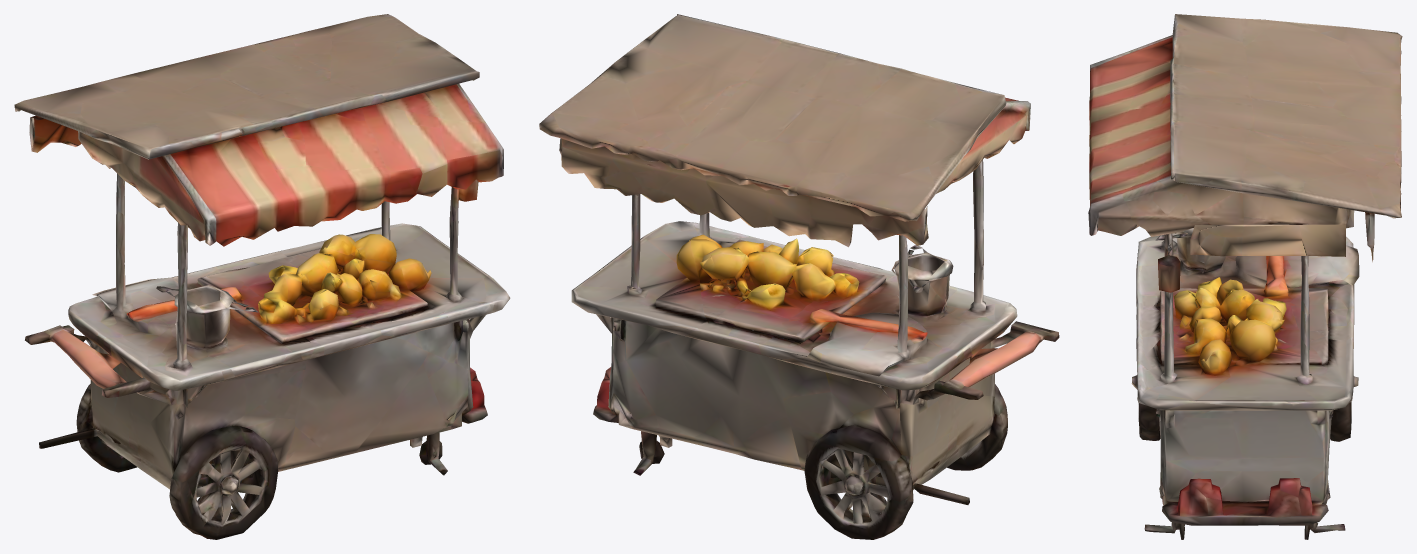
The model's file is hawker.glb.
3 views of the same model, side by side, from view 1: azimuth 30°, elevation 25°; view 2: azimuth 150°, elevation 25°; view 3: azimuth 270°, elevation 25° (orthographic).
Parts seen in each view (by area): view 1: tripo_node_2abb3fe6-7cd4-4fdf-8581-907194a90d64; view 2: tripo_node_2abb3fe6-7cd4-4fdf-8581-907194a90d64; view 3: tripo_node_2abb3fe6-7cd4-4fdf-8581-907194a90d64.
Boxes of the visible parts, x1,y1,x2,y2 form: tripo_node_2abb3fe6-7cd4-4fdf-8581-907194a90d64: (14,14,510,539); tripo_node_2abb3fe6-7cd4-4fdf-8581-907194a90d64: (539,14,1059,539); tripo_node_2abb3fe6-7cd4-4fdf-8581-907194a90d64: (1088,14,1402,539).
Bounding box in the file's own units: 0.9798 × 0.9221 × 0.6684.
Materials: 1 (1 with a texture image).
